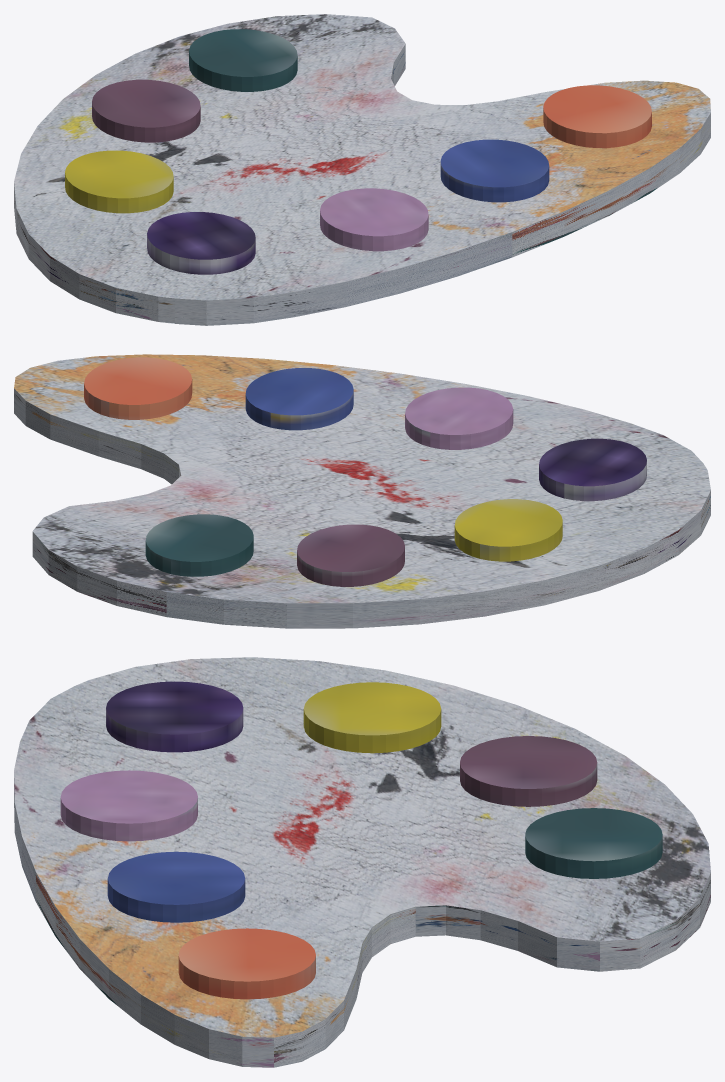
File: Palette.obj
3 renders of one model, top to bottom at view 1: azimuth 30°, elevation 25°; view 2: azimuth 150°, elevation 25°; view 3: azimuth 270°, elevation 25°, orthographic. The views are drawn at different scales.
Visible parts, largest first — view 1: Palette; view 2: Palette; view 3: Palette.
Boxes of the visible parts, x1,y1,x2,y2 form: Palette: (14,14,710,325); Palette: (14,354,710,628); Palette: (14,657,710,1067).
Size of the model in its own units: 0.3976 by 0.0233 by 0.3078.
